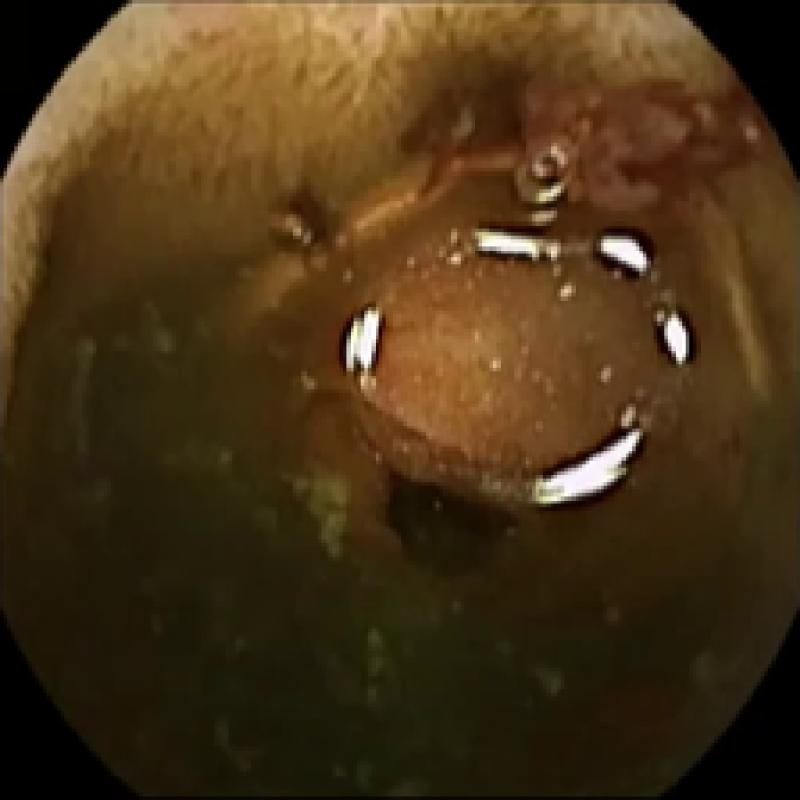bleeding: (610, 84, 768, 221), (400, 68, 529, 200), (381, 469, 513, 575), (270, 177, 346, 266)
